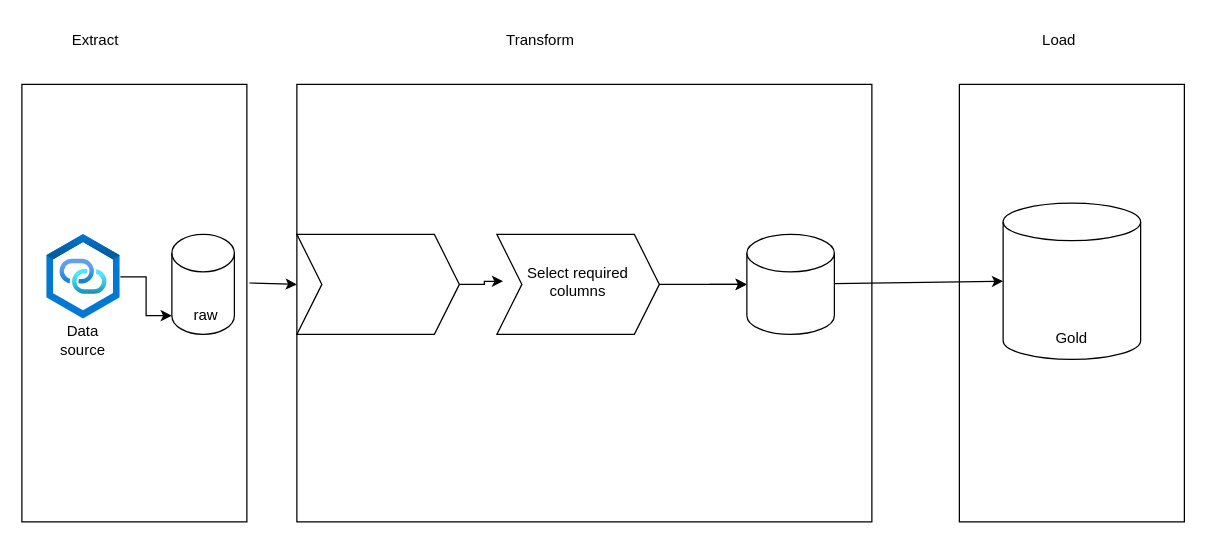
Image size: 1206x544. Some labels were removed from this diagram. The shapes that lost their labels are listed below. From the top down, each one's centre as x and y in pixels, then its label:
[377,283]: Rename Variable_code to 'variable_code'
[790,283]: transformed
